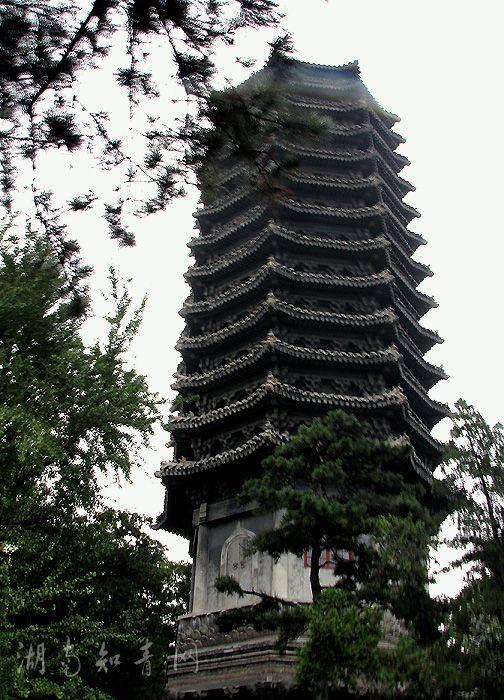Peking_Univ_Boya_Tower: (175, 43, 445, 557)
